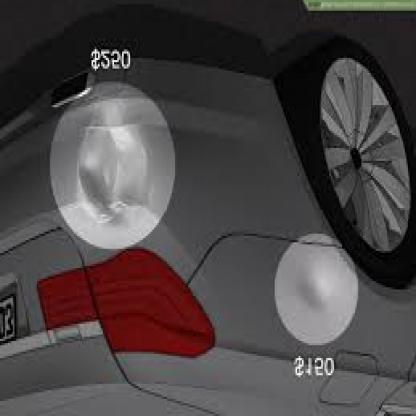dent: (74, 127, 152, 218), (283, 257, 347, 324)
